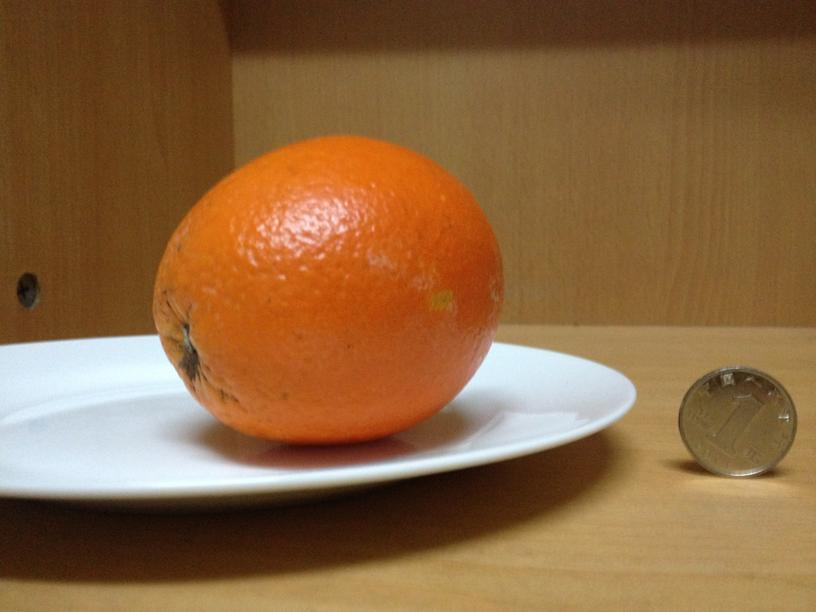coin: (680, 364, 797, 477)
orange: (156, 134, 504, 445)
